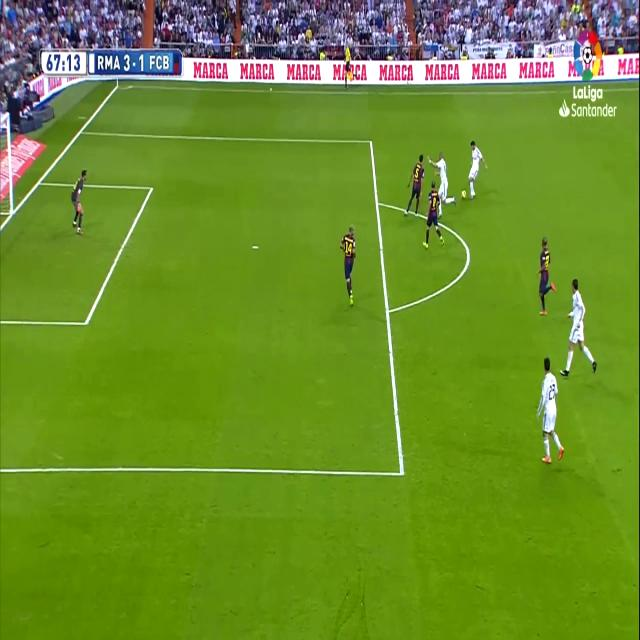bigarea_bottom_inner: (79, 306, 91, 336)
bigarea_top_outter: (76, 124, 84, 137)
corner: (114, 81, 122, 91)
smallarea_top_outter: (35, 173, 43, 191)
